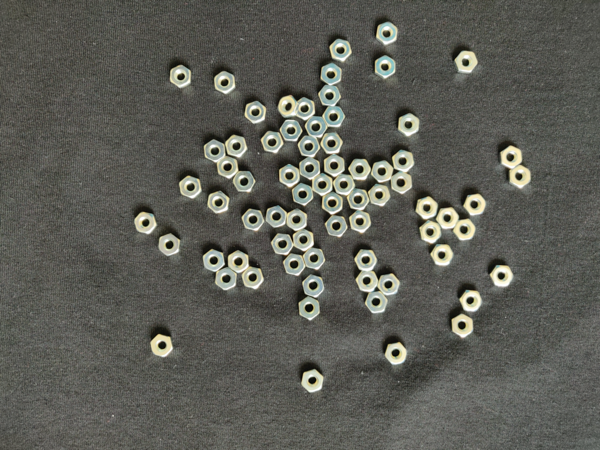nut: (454, 51, 478, 74), (150, 335, 174, 358), (179, 176, 203, 199), (500, 146, 523, 169), (416, 197, 439, 220), (385, 343, 408, 366), (330, 39, 353, 62), (242, 208, 265, 231), (242, 267, 265, 290), (203, 249, 226, 272), (509, 165, 531, 189), (490, 265, 514, 287), (436, 207, 460, 229), (347, 189, 371, 211), (303, 274, 325, 298), (170, 65, 192, 89), (216, 267, 238, 291), (134, 212, 158, 234), (377, 21, 398, 46), (464, 194, 487, 216), (460, 290, 483, 312), (453, 220, 476, 242), (399, 113, 421, 136), (393, 150, 415, 173), (391, 172, 413, 195), (356, 271, 379, 293), (355, 249, 378, 271), (371, 161, 394, 183), (368, 184, 391, 206), (349, 159, 372, 181), (333, 174, 356, 196), (298, 135, 320, 158), (305, 116, 328, 138), (280, 120, 303, 142), (302, 370, 324, 393), (303, 248, 326, 270), (266, 205, 288, 228), (261, 131, 284, 153), (245, 101, 267, 124), (215, 71, 237, 94), (226, 135, 248, 158), (217, 156, 239, 179), (228, 251, 250, 274), (159, 233, 181, 256), (453, 314, 474, 338), (299, 297, 320, 321), (293, 183, 314, 207), (420, 221, 442, 243), (378, 274, 400, 296), (366, 292, 388, 314), (350, 211, 372, 233), (321, 63, 343, 85), (326, 215, 348, 237), (278, 96, 300, 118), (284, 254, 306, 276), (272, 234, 294, 256), (208, 192, 230, 214), (431, 245, 454, 266), (319, 85, 342, 106), (323, 106, 346, 127), (321, 133, 344, 154), (300, 157, 321, 180), (233, 171, 256, 192), (205, 140, 226, 163), (313, 173, 333, 197), (280, 164, 300, 188), (325, 155, 346, 177), (293, 229, 314, 251), (287, 209, 308, 231), (376, 56, 396, 79), (296, 98, 316, 121), (323, 193, 344, 214)
